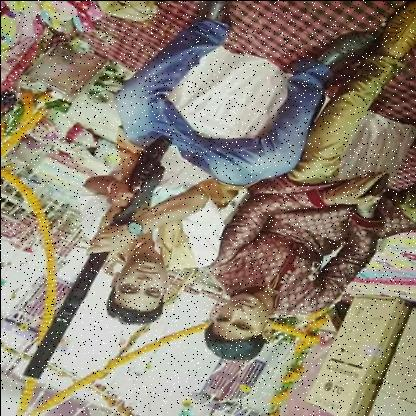rifle: (20, 132, 174, 380)
